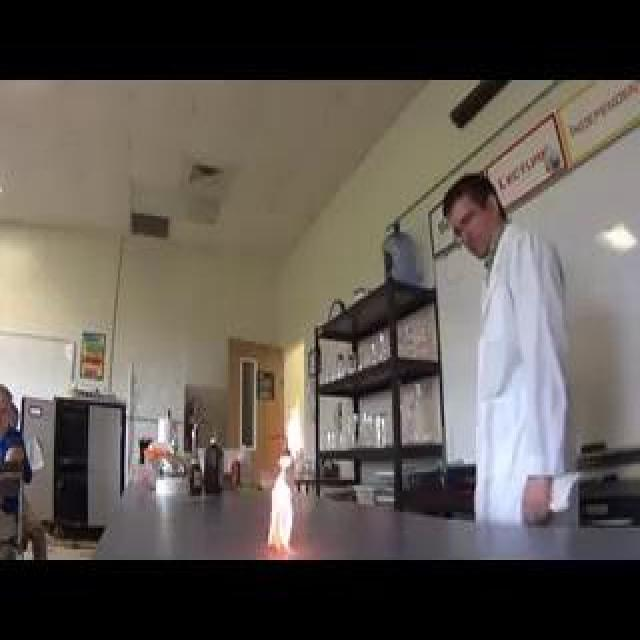fire: (270, 458, 294, 546)
